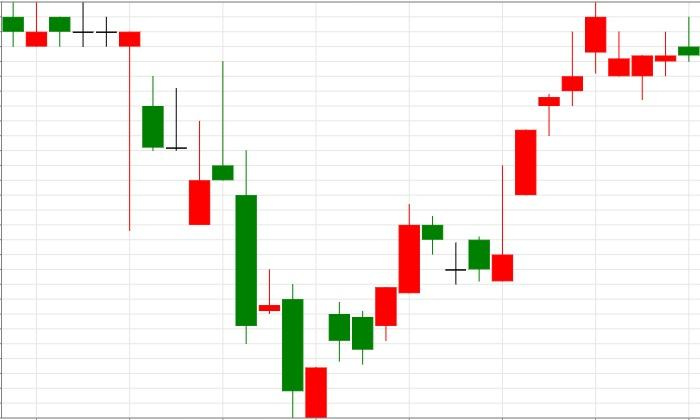inverse_hammer_rise: (421, 165, 514, 285)
